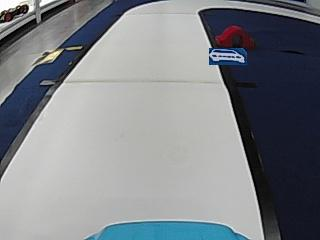bridge: (215, 25, 253, 47)
